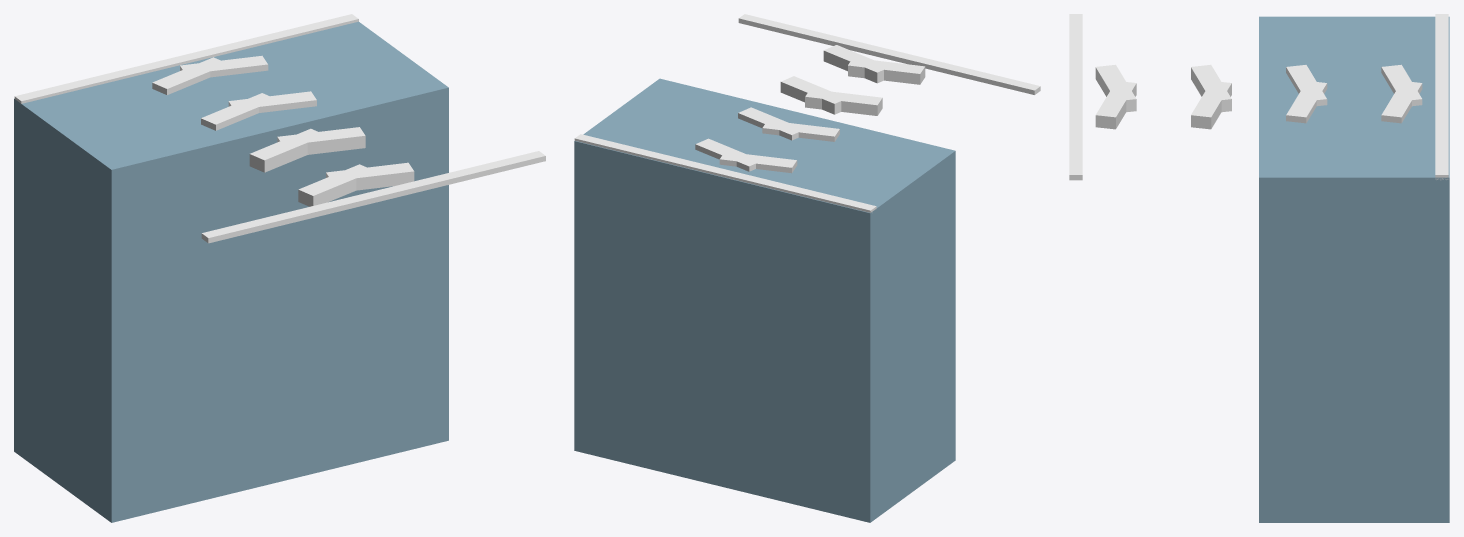
Rendered from Conveyor_VerticalSlab.glb.
The picture shows the model from 3 angles, left to right: view 1: azimuth 30°, elevation 25°; view 2: azimuth 150°, elevation 25°; view 3: azimuth 270°, elevation 25°; orthographic projection. The views are drawn at different scales.
Visible parts, largest first — view 1: Conveyor_VerticalSlab_body, rail_-0.003, rail_0.003, chev_1_1.003, chev_0_1.003, chev_1_-1.003, chev_0_-1.003, chev_3_-1.003, chev_2_1.003, chev_2_-1.003, chev_3_1.003; view 2: Conveyor_VerticalSlab_body, rail_-0.003, rail_0.003, chev_0_1.003, chev_1_1.003, chev_1_-1.003, chev_3_1.003, chev_2_1.003, chev_0_-1.003, chev_3_-1.003, chev_2_-1.003; view 3: Conveyor_VerticalSlab_body, rail_-0.003, rail_0.003, chev_0_-1.003, chev_1_-1.003, chev_0_1.003, chev_1_1.003, chev_2_-1.003, chev_3_-1.003, chev_2_1.003, chev_3_1.003.
Part boxes in pixels (x1=…): Conveyor_VerticalSlab_body: x1=14, y1=21, x2=448, y2=522; rail_-0.003: x1=201, y1=151, x2=545, y2=243; rail_0.003: x1=14, y1=14, x2=358, y2=103; chev_1_1.003: x1=249, y1=128, x2=325, y2=172; chev_0_1.003: x1=298, y1=164, x2=373, y2=206; chev_1_-1.003: x1=277, y1=127, x2=365, y2=154; chev_0_-1.003: x1=326, y1=162, x2=414, y2=190; chev_3_-1.003: x1=180, y1=55, x2=268, y2=77; chev_2_1.003: x1=201, y1=93, x2=276, y2=130; chev_2_-1.003: x1=228, y1=91, x2=316, y2=112; chev_3_1.003: x1=152, y1=57, x2=227, y2=94; Conveyor_VerticalSlab_body: x1=574, y1=78, x2=955, y2=522; rail_-0.003: x1=738, y1=14, x2=1040, y2=94; rail_0.003: x1=574, y1=134, x2=876, y2=212; chev_0_1.003: x1=848, y1=58, x2=925, y2=84; chev_1_1.003: x1=805, y1=89, x2=882, y2=115; chev_1_-1.003: x1=780, y1=76, x2=847, y2=114; chev_3_1.003: x1=719, y1=151, x2=797, y2=173; chev_2_1.003: x1=762, y1=120, x2=839, y2=141; chev_0_-1.003: x1=823, y1=45, x2=883, y2=83; chev_3_-1.003: x1=695, y1=138, x2=760, y2=171; chev_2_-1.003: x1=738, y1=107, x2=804, y2=140; Conveyor_VerticalSlab_body: x1=1259, y1=16, x2=1449, y2=522; rail_-0.003: x1=1069, y1=14, x2=1082, y2=180; rail_0.003: x1=1435, y1=14, x2=1448, y2=180; chev_0_-1.003: x1=1095, y1=81, x2=1136, y2=129; chev_1_-1.003: x1=1191, y1=81, x2=1231, y2=129; chev_0_1.003: x1=1095, y1=64, x2=1136, y2=112; chev_1_1.003: x1=1191, y1=64, x2=1231, y2=112; chev_2_-1.003: x1=1286, y1=81, x2=1327, y2=123; chev_3_-1.003: x1=1381, y1=81, x2=1422, y2=123; chev_2_1.003: x1=1286, y1=65, x2=1327, y2=106; chev_3_1.003: x1=1381, y1=64, x2=1422, y2=106.
Bounding box in the file's own units: 1 × 1.02 × 0.9975.
